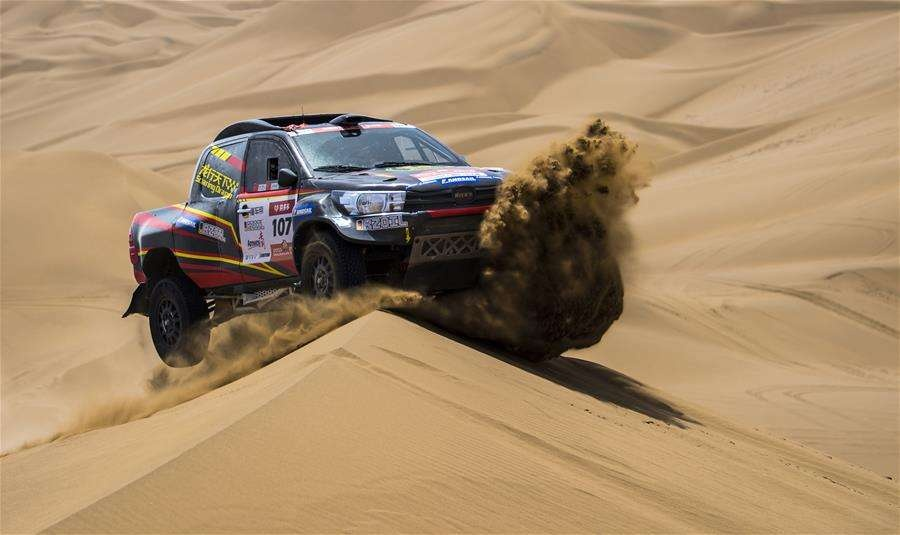racing car: (130, 104, 540, 360)
